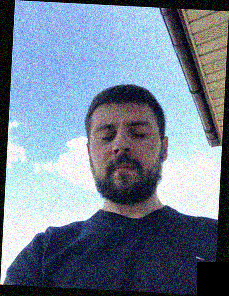without_mask: (90, 113, 161, 205)
